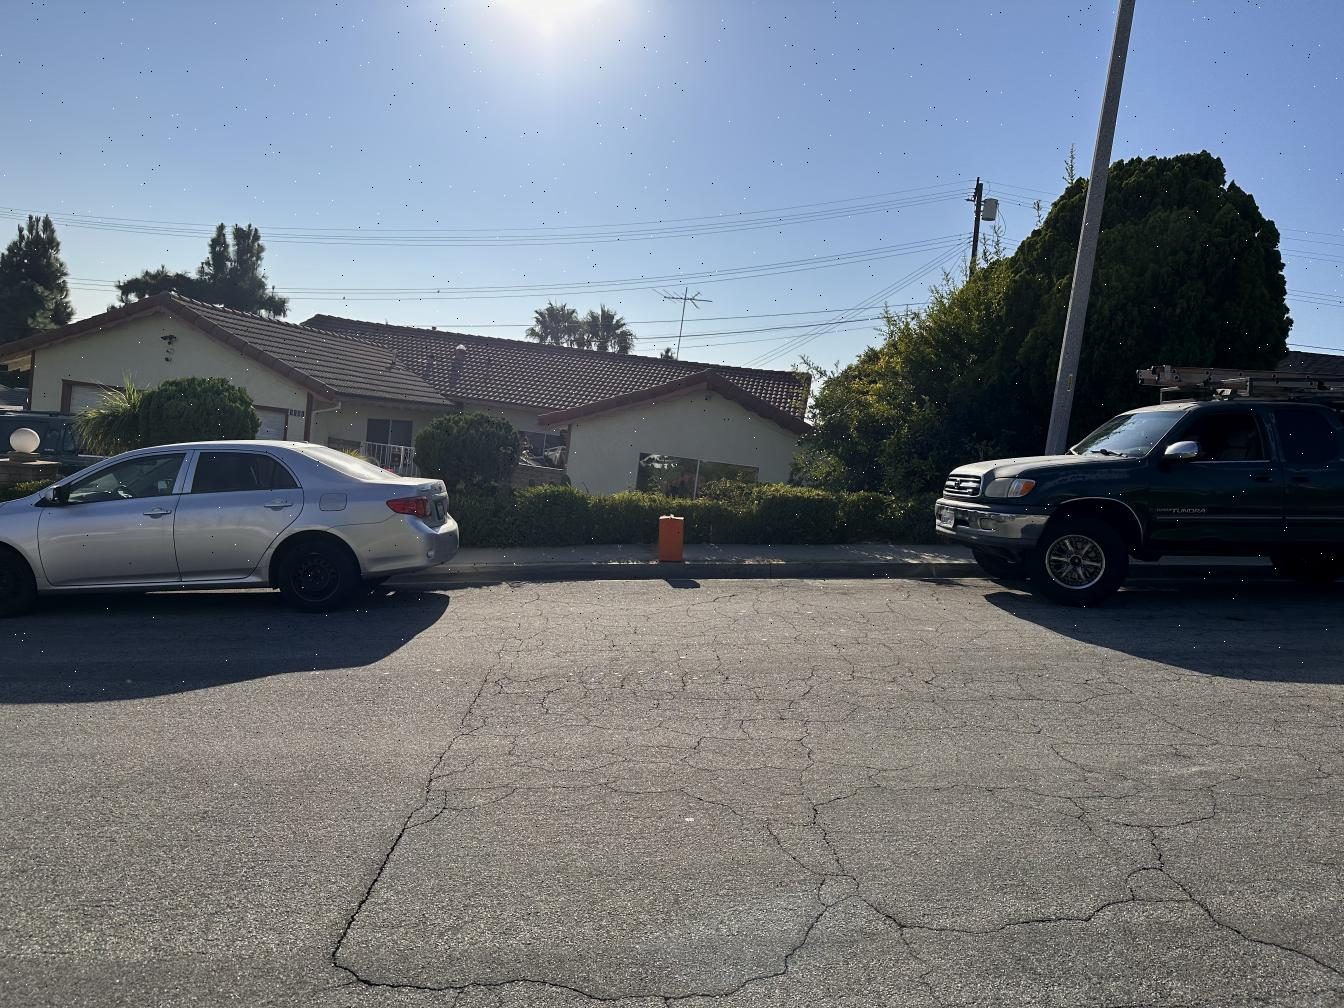curbs-laRr: (466, 564, 916, 583)
orange box: (660, 515, 684, 563)
